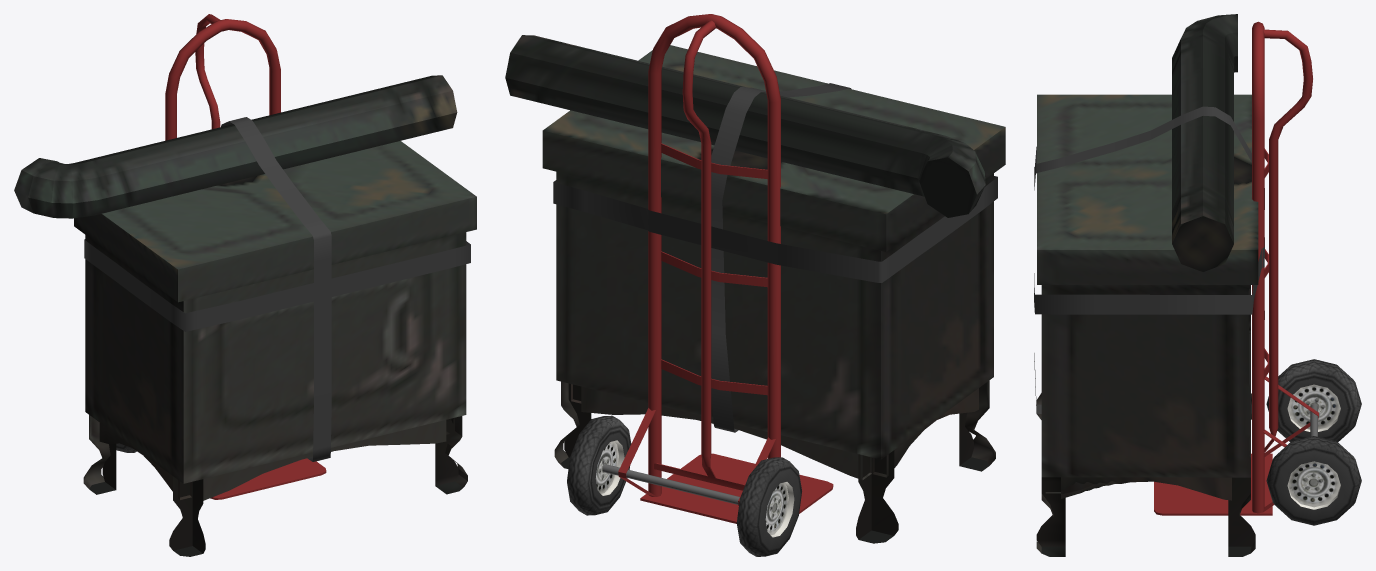
The model's file is PA_Antique_Oven.fbx.
3 views of the same model, side by side, from view 1: azimuth 30°, elevation 25°; view 2: azimuth 150°, elevation 25°; view 3: azimuth 270°, elevation 25° (orthographic). The views are drawn at different scales.
Visible parts, largest first — view 1: Handtruck_bottom; view 2: Handtruck_bottom; view 3: Handtruck_bottom.
Part boxes in pixels (x1,y1,x2,y2): Handtruck_bottom: (14, 14, 476, 556); Handtruck_bottom: (505, 14, 1005, 556); Handtruck_bottom: (1034, 14, 1361, 556).
Bounding box in the file's own units: 0.7922 × 0.7922 × 0.5126.
